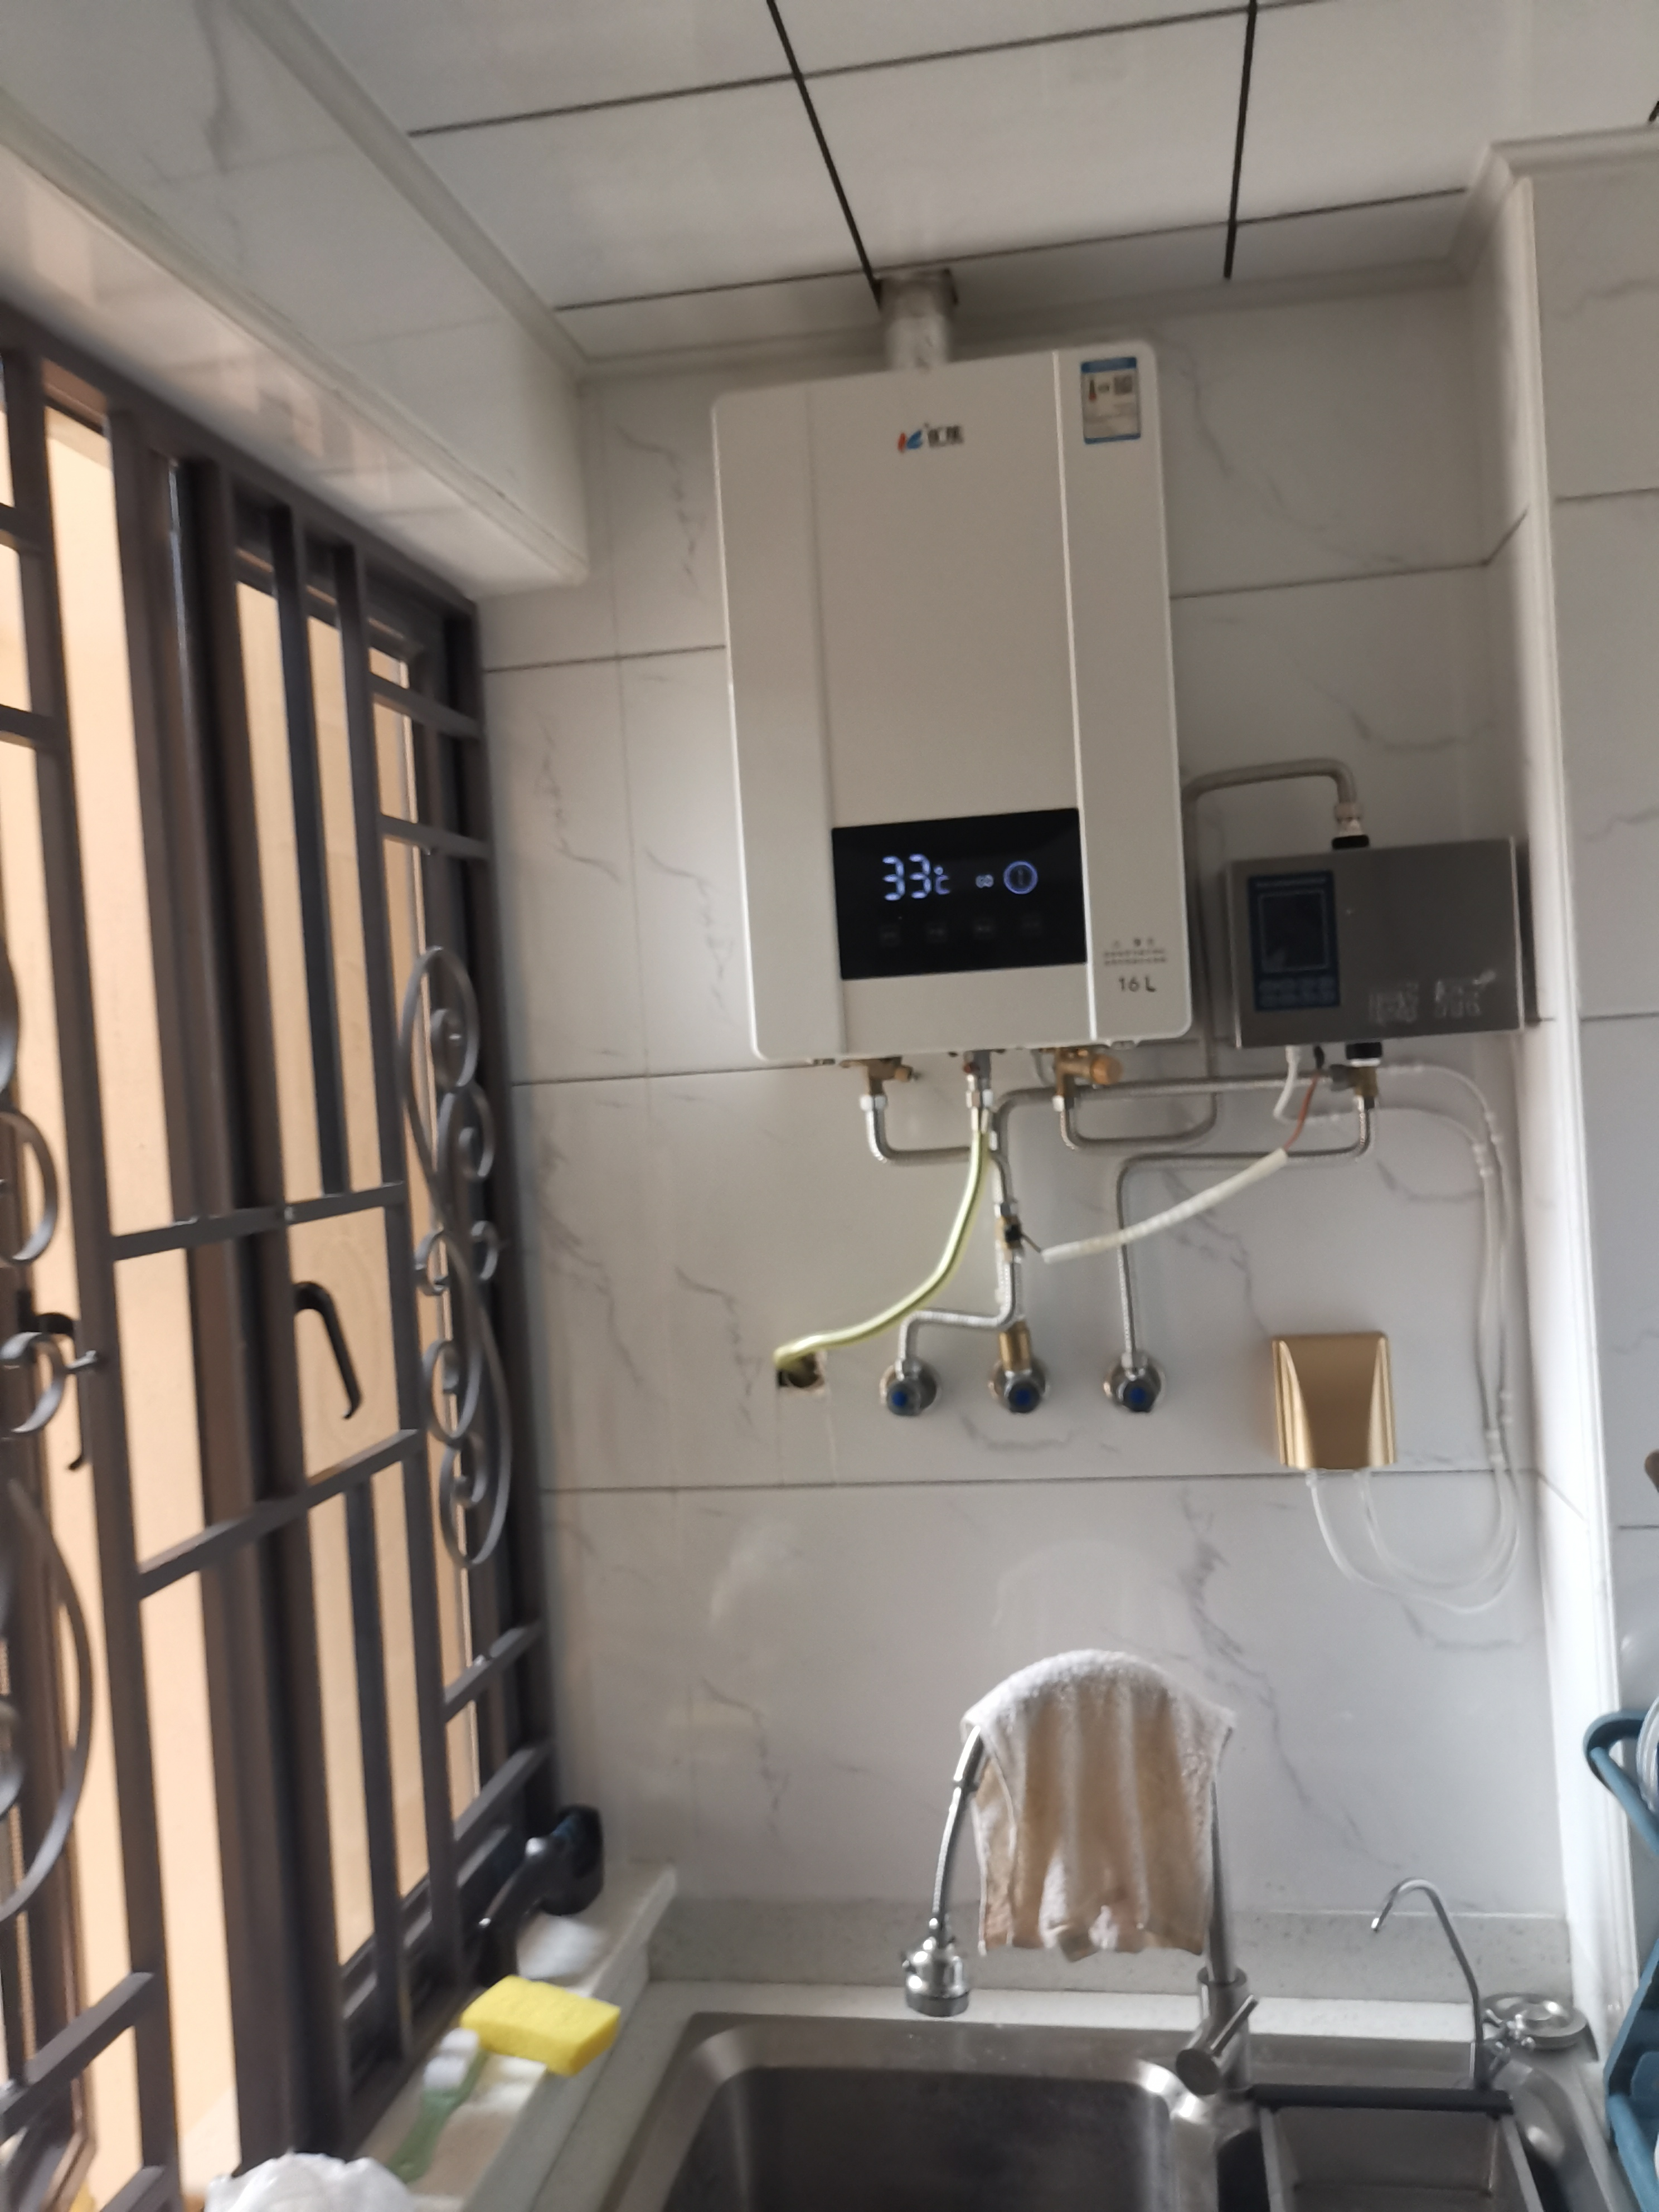loudou: (882, 413, 988, 458)
